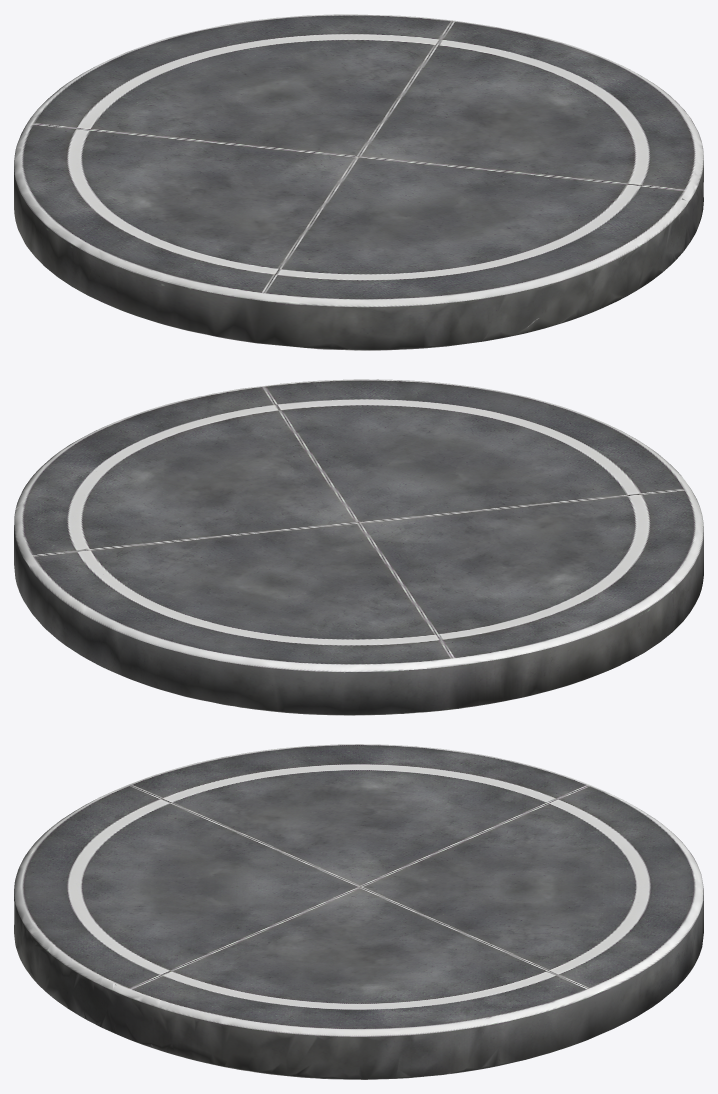
File: Creator World.glb
3 views of the same model, one above another, from view 1: azimuth 30°, elevation 25°; view 2: azimuth 150°, elevation 25°; view 3: azimuth 270°, elevation 25° (orthographic).
Visible parts, largest first — view 1: Mesh_0; view 2: Mesh_0; view 3: Mesh_0.
Part boxes in pixels (left/top/right/bottom): Mesh_0: left=14, top=14, right=703, bottom=350; Mesh_0: left=14, top=379, right=703, bottom=715; Mesh_0: left=14, top=744, right=703, bottom=1079.
Bounding box in the file's own units: 1.91 × 0.1545 × 1.91.
1 material, 1 textured.
